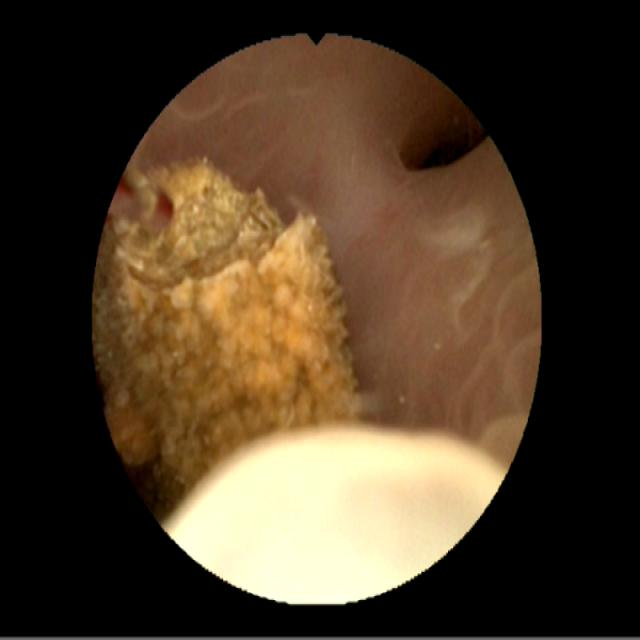stone: (97, 164, 354, 495)
tissue: (151, 39, 533, 428)
